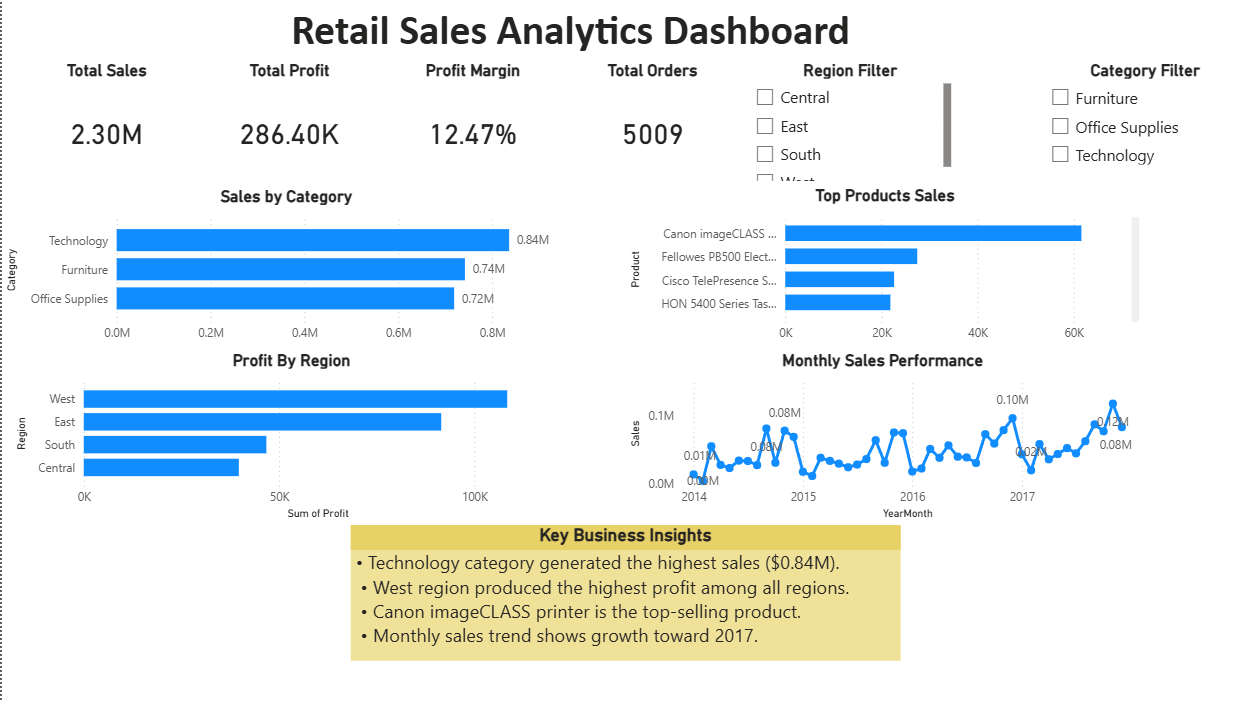

Layout of this report page (visuals, bound fields, positions):
{"tool":"powerbi","page":{"name":"Page 1","canvas":[1280,720],"ordinal":0},"visuals":[{"type":"card","title":"Total Sales","fields":{"Values":["Sum(superstore csv.Sales)"]},"box":[9.8,61.1,194.4,129.6],"z":0},{"type":"card","title":"Total Profit","fields":{"Values":["Sum(superstore csv.Profit)"]},"box":[204.2,61.1,182.2,129.6],"z":1000},{"type":"clusteredBarChart","fields":{"Category":["superstore csv.Category"],"Y":["Sum(superstore csv.Sales)"]},"box":[0,190.8,583.3,168.8],"z":2000},{"type":"clusteredBarChart","title":"Profit By Region","fields":{"Category":["superstore csv.Region"],"Y":["Sum(superstore csv.Profit)"]},"box":[9.8,359.5,573.5,178.5],"z":3000},{"type":"lineChart","title":"Monthly Sales Performance","fields":{"Y":["Sum(superstore csv.Sales)"],"Category":["superstore csv.YearMonth"]},"box":[639.5,359.5,527,178.5],"z":4000},{"type":"barChart","title":"Top Products Sales","fields":{"Category":["superstore csv.Product Name"],"Y":["Sum(superstore csv.Sales)"]},"box":[639.5,189.5,531.9,170],"z":5000},{"type":"slicer","title":"Region Filter","fields":{"Values":["superstore csv.Region"]},"box":[761.6,61.7,216.8,129],"z":6000},{"type":"slicer","title":"Category Filter","fields":{"Values":["superstore csv.Category"]},"box":[1063.5,61.7,216.8,129],"z":7000},{"type":"textbox","box":[0,0,1166.4,61.7],"z":8000},{"type":"card","title":"Profit Margin","fields":{"Values":["superstore csv.Profit Margin"]},"box":[384,61.1,199.3,129.6],"z":9000},{"type":"card","title":"Total Orders","fields":{"Values":["superstore csv.Total Orders"]},"box":[573.5,61.1,188.3,129.6],"z":9001},{"type":"textbox","title":"Key Business Insights","box":[357.1,538,563.7,139.4],"z":9002}]}

Visuals, with their boxes in screenshot pixels (x1, y1, x2, y2), scaled from the page's 1280x720 canvas onto the 1248x702 screenshot:
"Total Sales" card: crop(10, 60, 199, 186)
"Total Profit" card: crop(199, 60, 377, 186)
clusteredBarChart - superstore csv.Category x Sum(superstore csv.Sales): crop(0, 186, 569, 351)
"Profit By Region" clusteredBarChart: crop(10, 351, 569, 525)
"Monthly Sales Performance" lineChart: crop(624, 351, 1137, 525)
"Top Products Sales" barChart: crop(624, 185, 1142, 351)
"Region Filter" slicer: crop(743, 60, 954, 186)
"Category Filter" slicer: crop(1037, 60, 1247, 186)
textbox: crop(0, 0, 1137, 60)
"Profit Margin" card: crop(374, 60, 569, 186)
"Total Orders" card: crop(559, 60, 743, 186)
"Key Business Insights" textbox: crop(348, 525, 898, 660)
